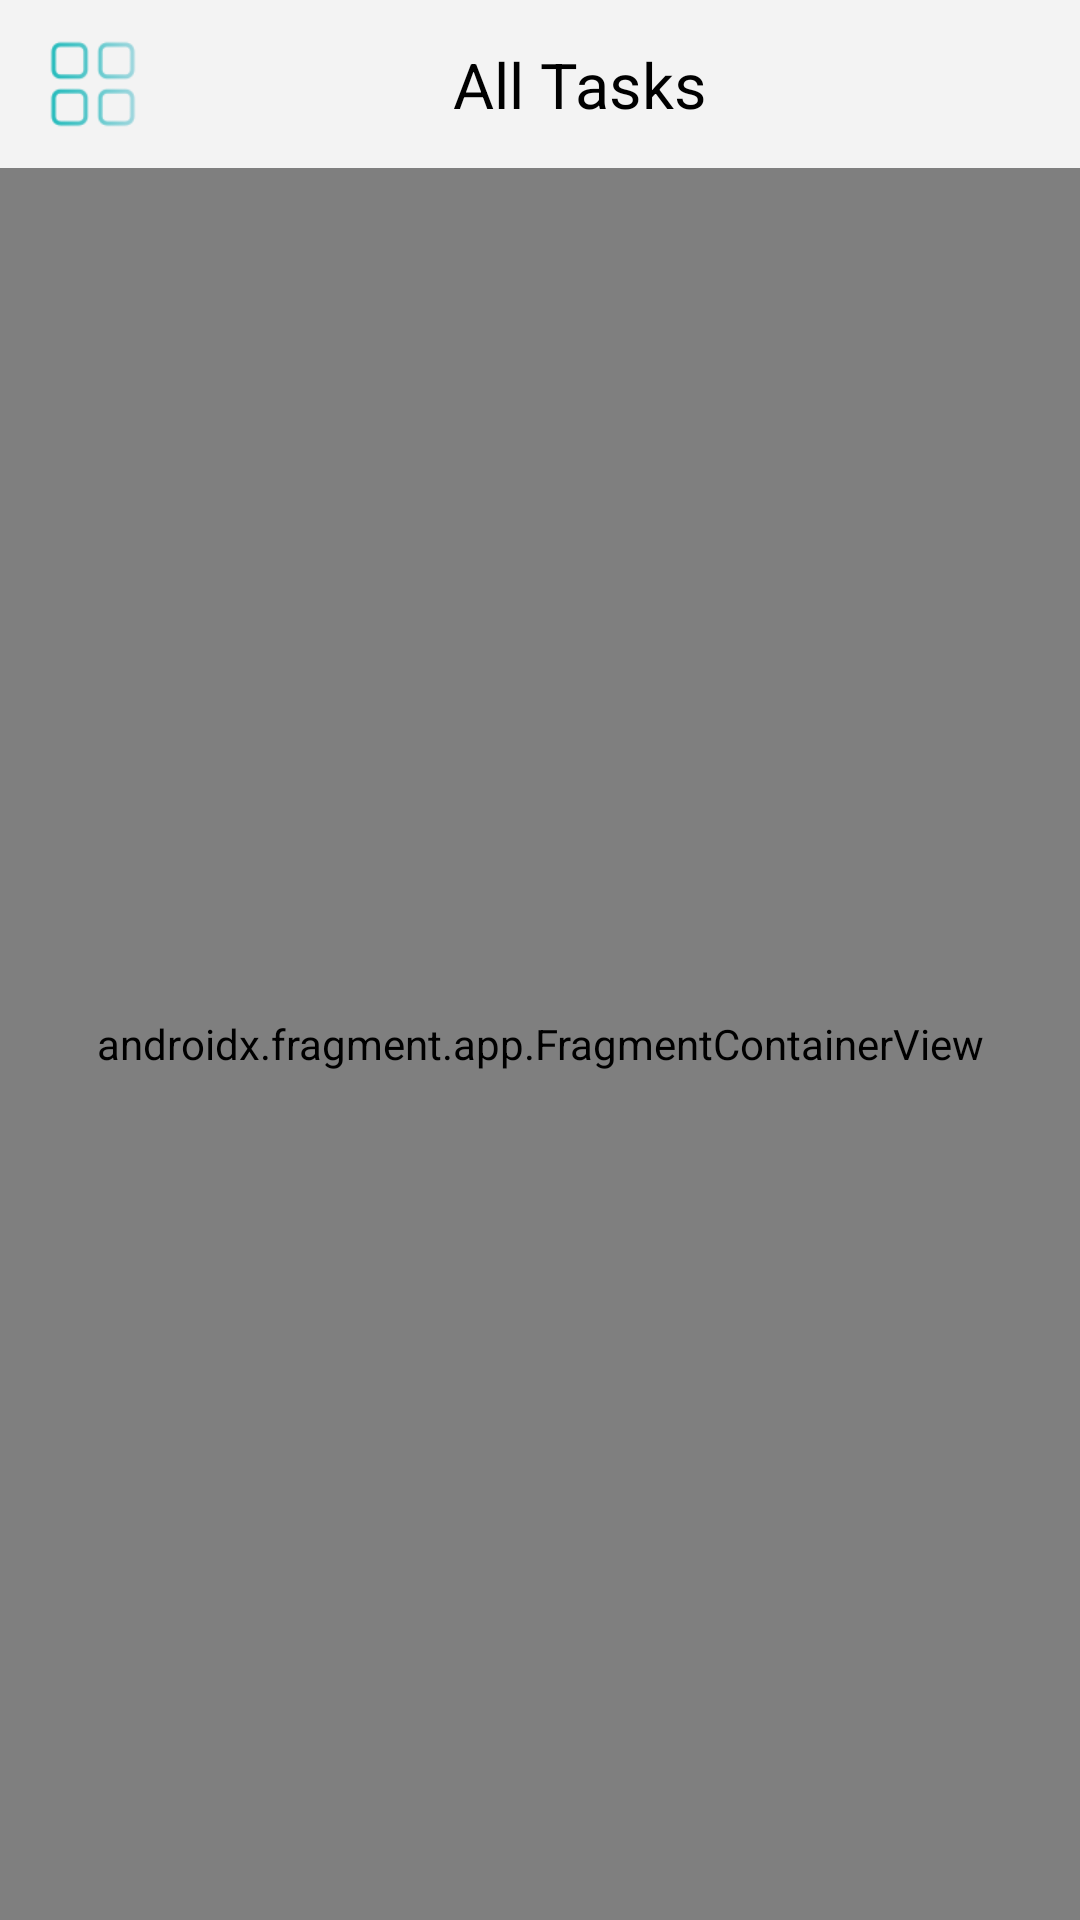

Screen size 1080w x 1920h. Icon name, then its box in pixels as (x1, y1, x2, y2):
menu: (50, 41, 135, 127)
